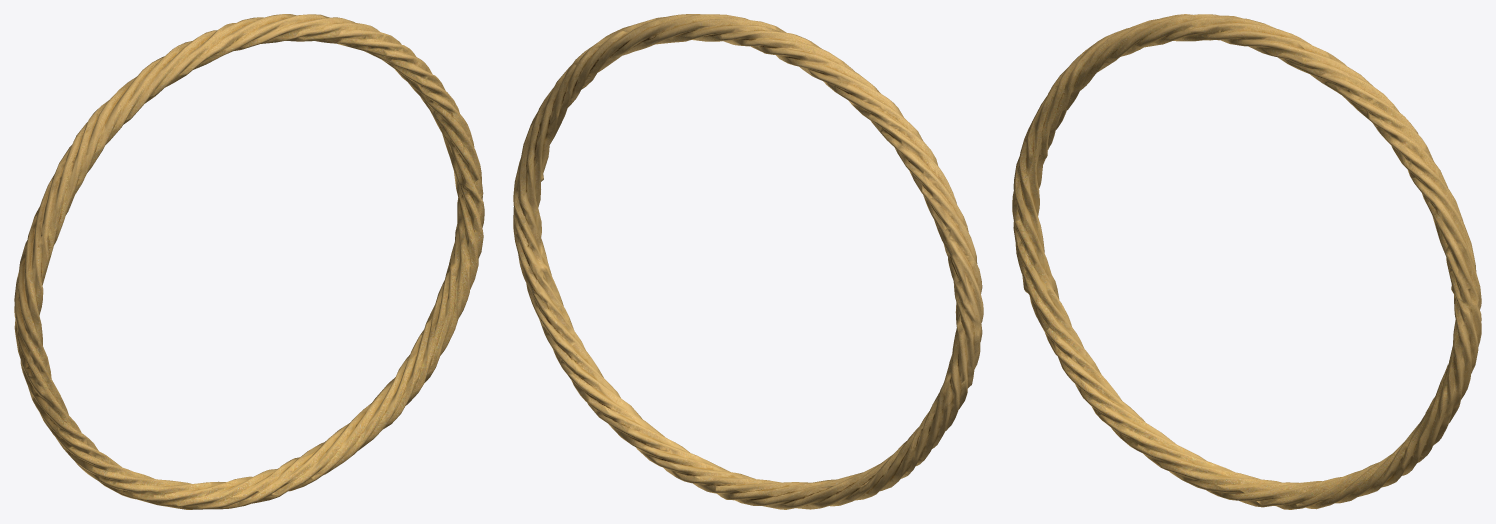
Rendered from ring_gold_rope_game.glb.
The picture shows the model from 3 angles, left to right: view 1: azimuth 30°, elevation 25°; view 2: azimuth 150°, elevation 25°; view 3: azimuth 330°, elevation 25°; orthographic projection.
Parts seen in each view (by area): view 1: Mesh_0; view 2: Mesh_0; view 3: Mesh_0.
Boxes of the visible parts, bbox=[...] form: Mesh_0: bbox=[14, 14, 484, 509]; Mesh_0: bbox=[513, 14, 983, 509]; Mesh_0: bbox=[1012, 14, 1481, 509].
Size of the model in its own units: 2.12 by 2.09 by 0.1377.
1 material, 1 textured.
